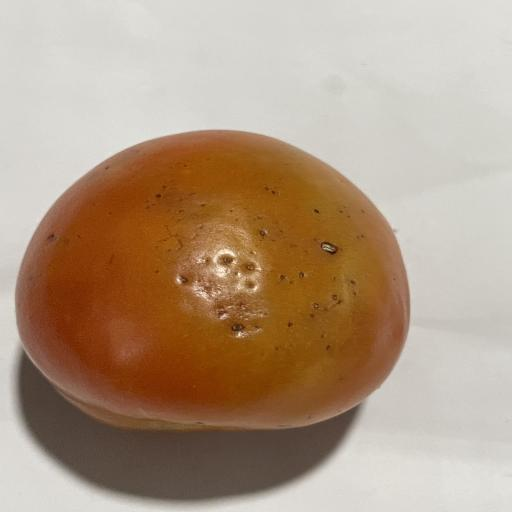unripe: (16, 130, 409, 431)
